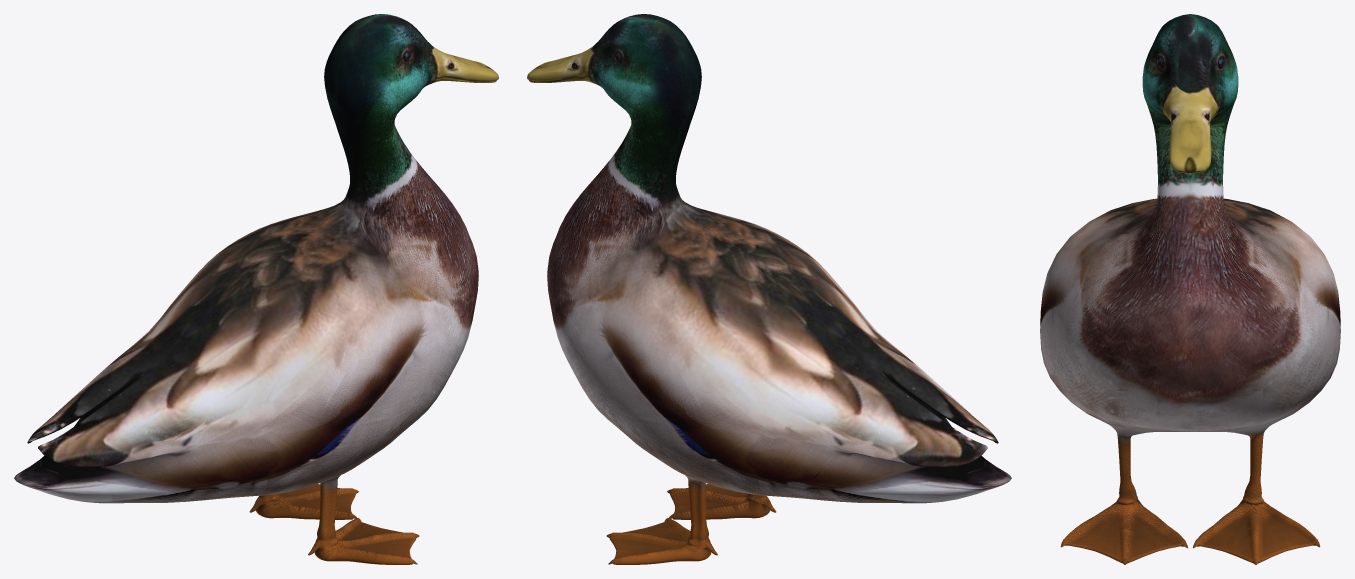
File: duck.glb
3 views of the same model, side by side, from view 1: azimuth 30°, elevation 25°; view 2: azimuth 150°, elevation 25°; view 3: azimuth 270°, elevation 25° (orthographic). The views are drawn at different scales.
Parts seen in each view (by area): view 1: bird; view 2: bird; view 3: bird.
Boxes of the visible parts, x1,y1,x2,y2 form: bird: (14,14,498,564); bird: (527,14,1011,564); bird: (1040,14,1340,564).
Size of the model in its own units: 5.65 by 5.65 by 2.85.
1 material, 1 textured.
